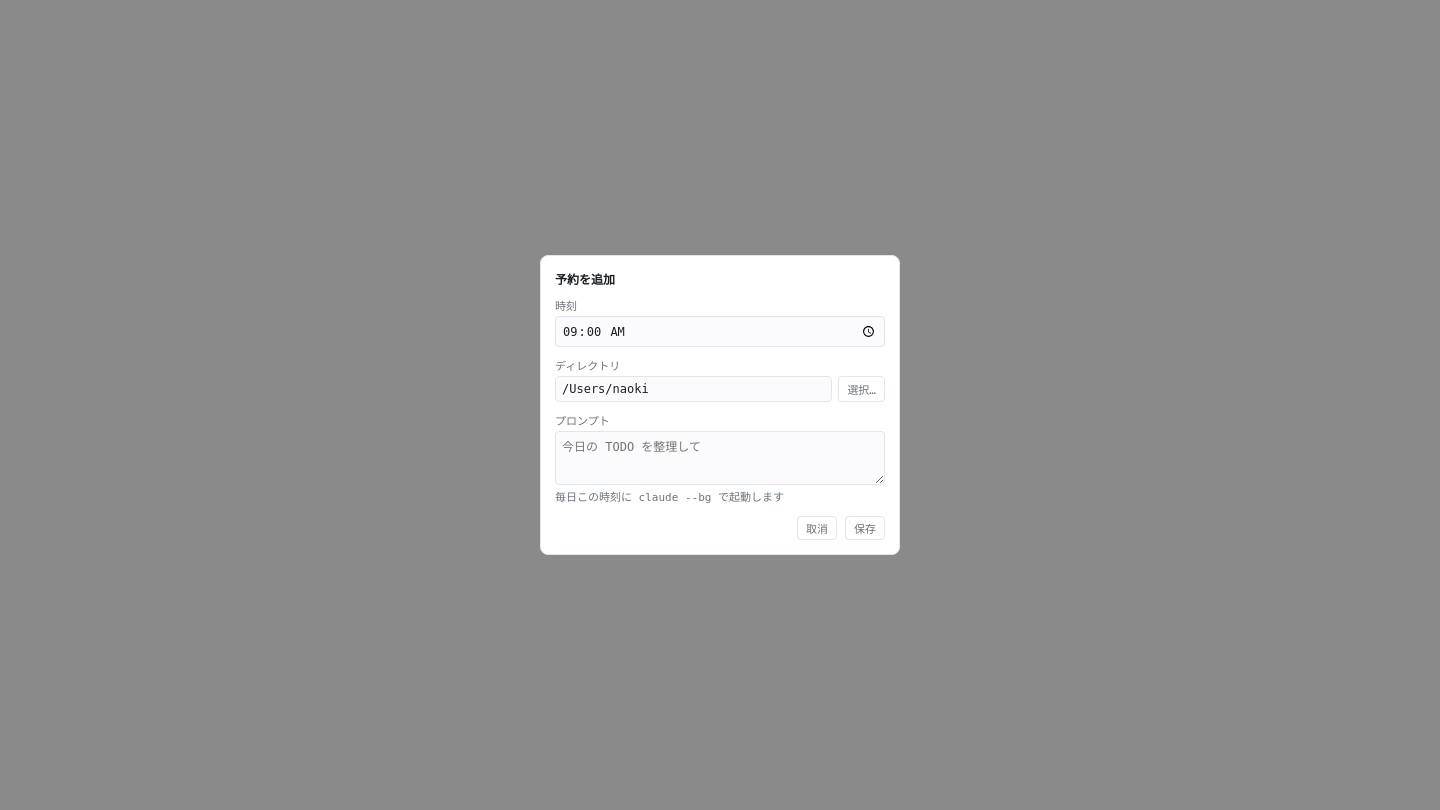
Scenario: ScheduleDialog › 時刻が空なら保存せずエラーを出す
The image size is (1440, 810).
Clear the time field labelled "時刻" at [720, 332], box [555,316,885,347]
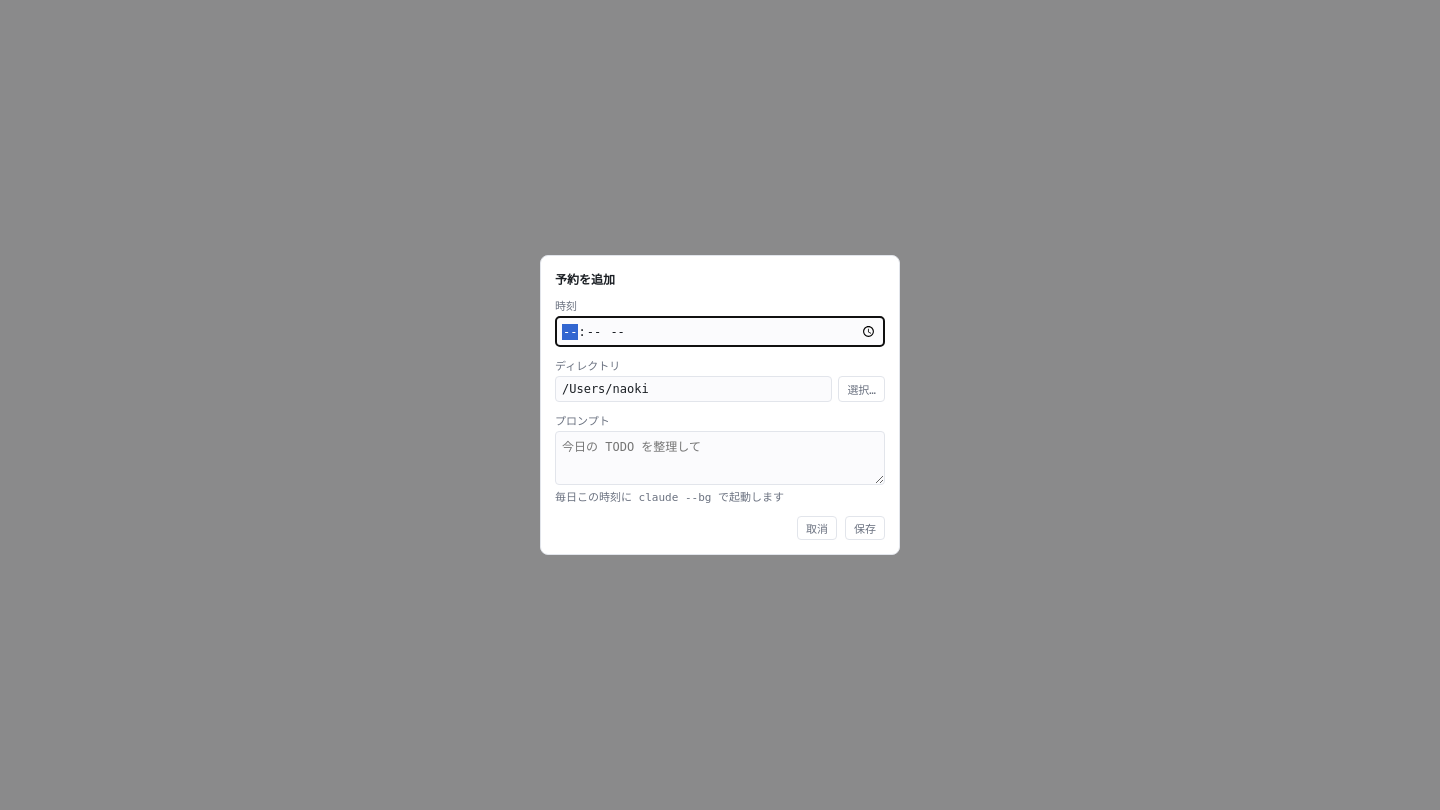
Type "おはよう" into the text box labelled "プロンプト" at [720, 458], box [555,431,885,485]
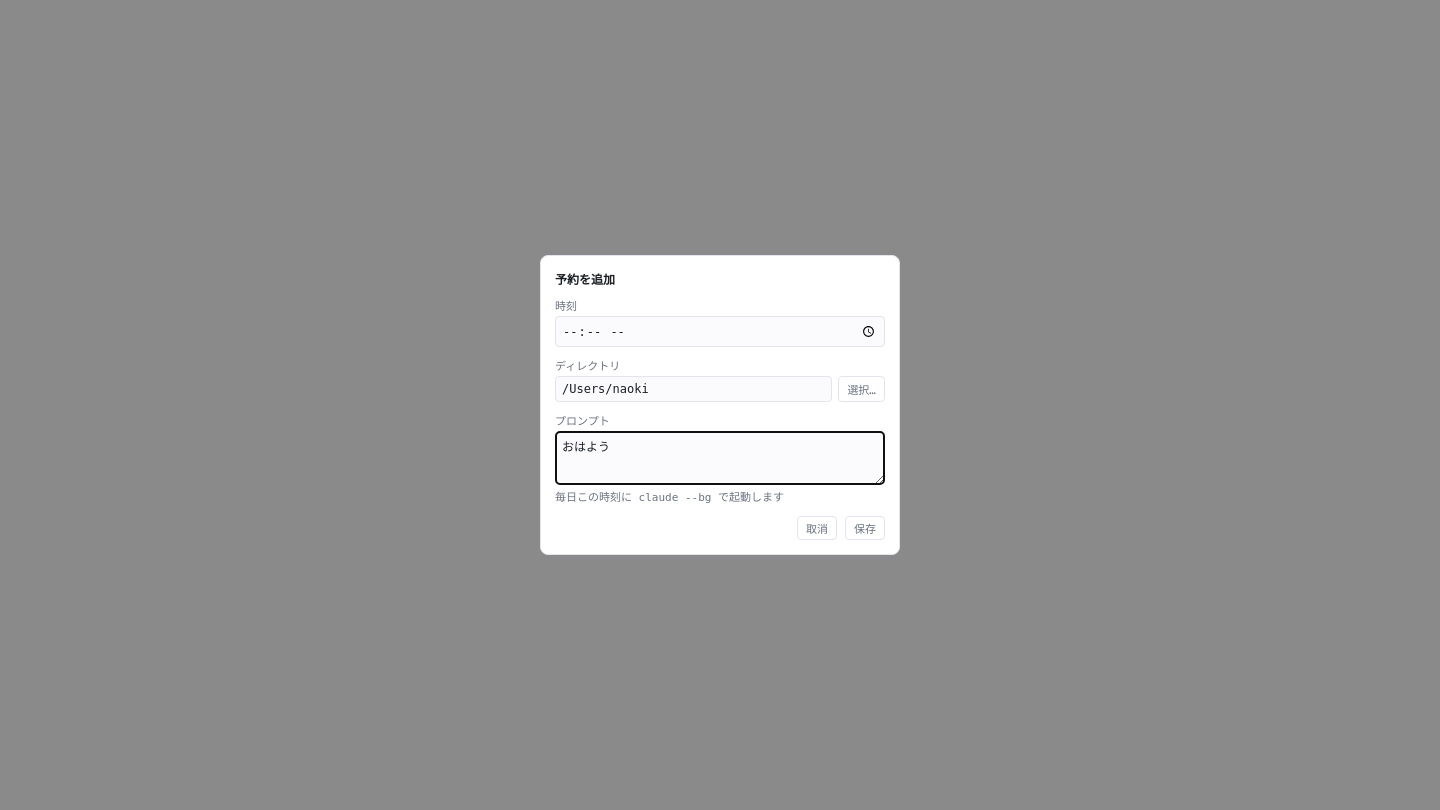
Click the button "保存" at [865, 528], box [845,516,885,540]
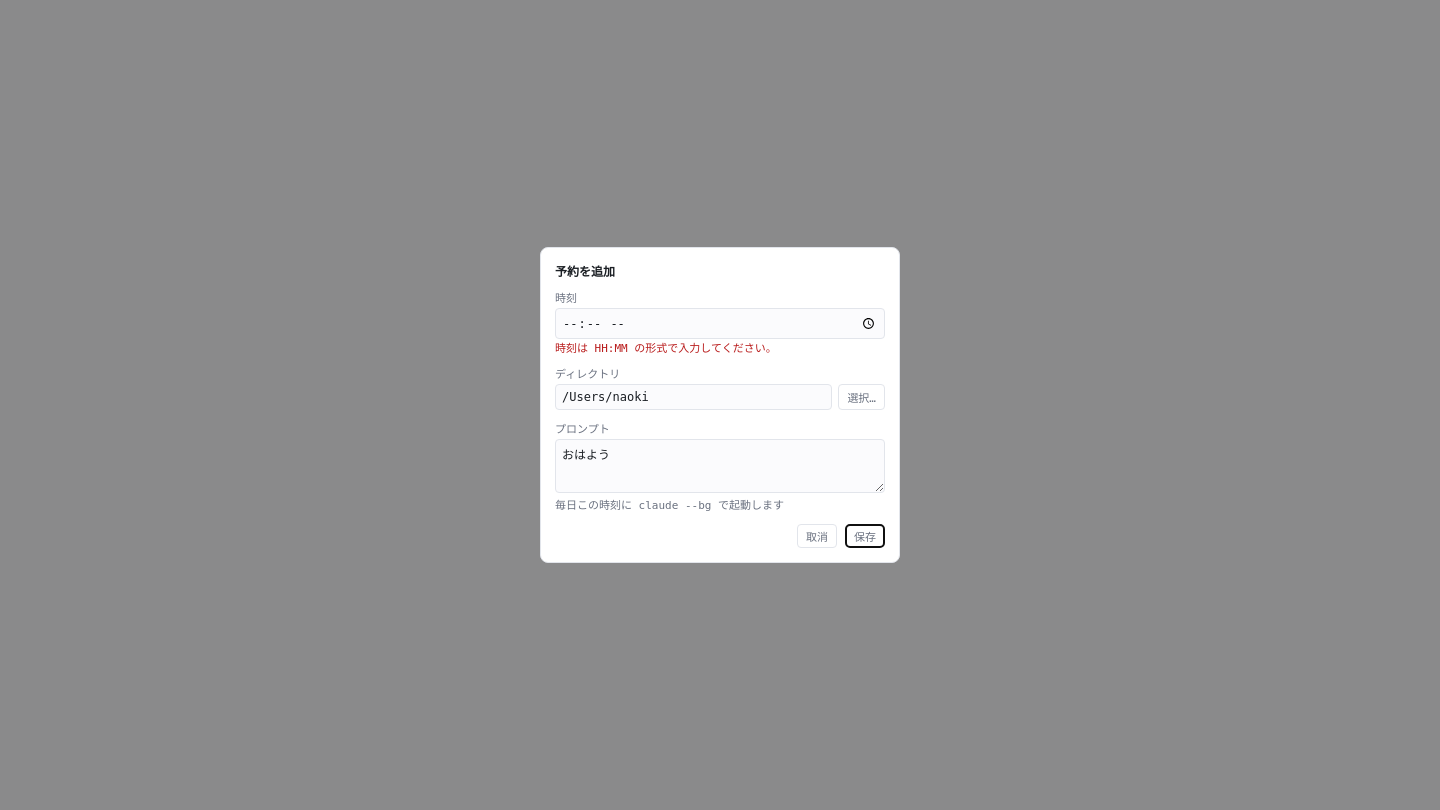
Expected: the text "時刻は HH:MM の形式で入力してください。" is shown, [555,342,777,355]
